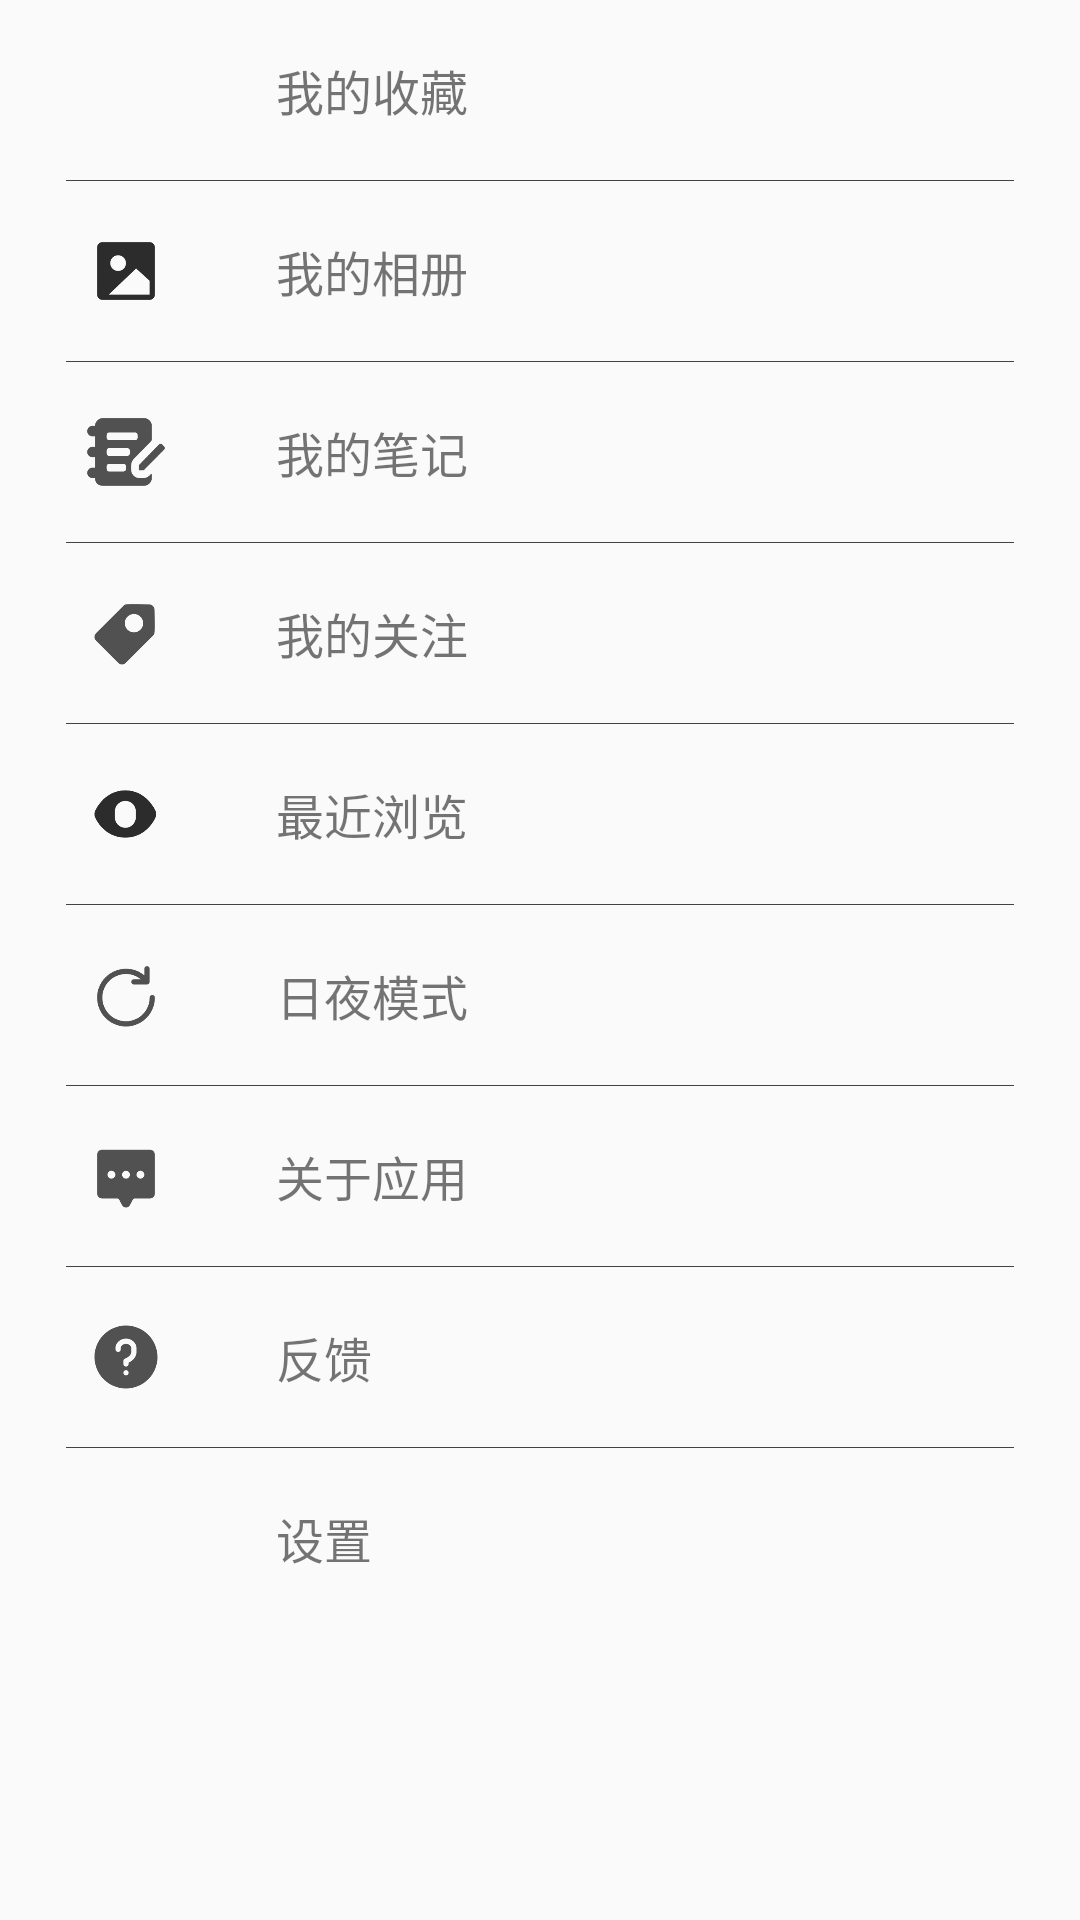

Screen size 1080px×1920px. Icon name, then its box in pixels as {"x1": x1, "y1": y1, "x2": x2, "y2": y2}:
browse: {"x1": 94, "y1": 790, "x2": 156, "y2": 838}
label: {"x1": 94, "y1": 604, "x2": 155, "y2": 665}
message: {"x1": 97, "y1": 1149, "x2": 155, "y2": 1208}
note: {"x1": 87, "y1": 418, "x2": 165, "y2": 486}
refresh: {"x1": 97, "y1": 966, "x2": 155, "y2": 1027}
